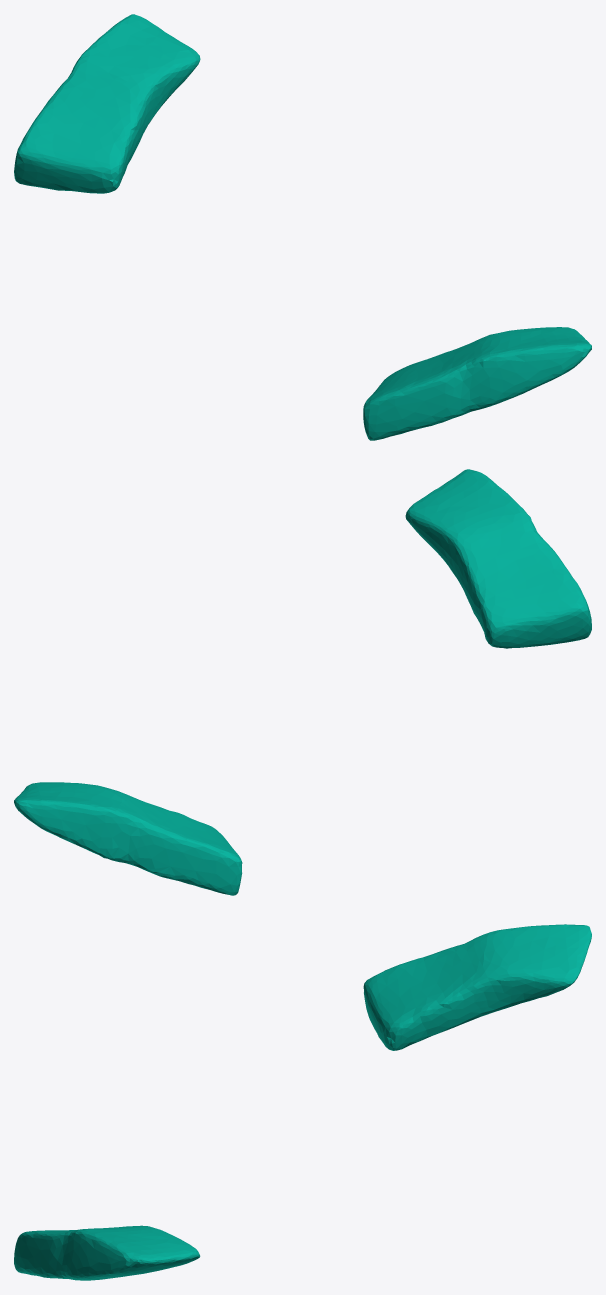
3 views of the same model, one above another, from view 1: azimuth 30°, elevation 25°; view 2: azimuth 150°, elevation 25°; view 3: azimuth 330°, elevation 25° (orthographic).
Parts seen in each view (by area): view 1: 1057.obj; view 2: 1057.obj; view 3: 1057.obj.
Part boxes in pixels (<box>): 1057.obj: <box>14,14,591,440</box>; 1057.obj: <box>14,469,591,895</box>; 1057.obj: <box>14,924,591,1280</box>.
Bounding box in the file's own units: 2316 × 1052 × 9280.
